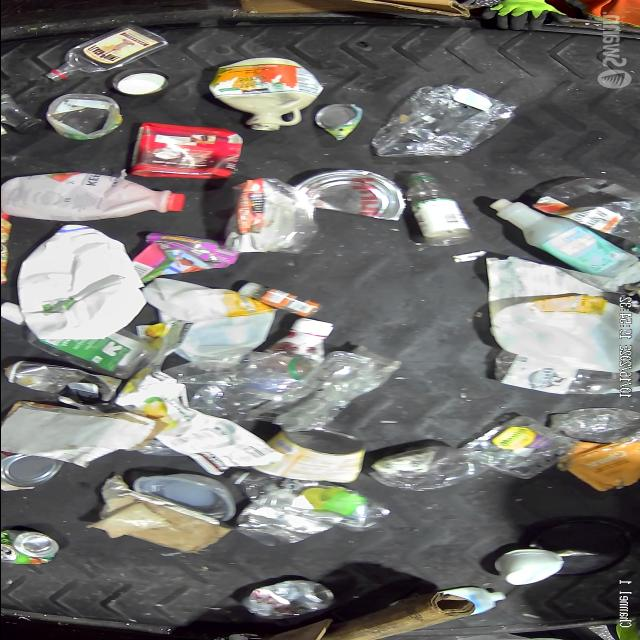can: (244, 426, 366, 484), (220, 576, 352, 620), (0, 447, 64, 495), (0, 533, 65, 570)
milk_jug: (106, 348, 318, 460), (12, 221, 146, 341), (465, 290, 640, 374), (133, 272, 277, 364)
non_white_jug: (188, 53, 330, 130), (125, 124, 253, 180)
plastic_bottle: (264, 344, 396, 427), (541, 404, 640, 448)
